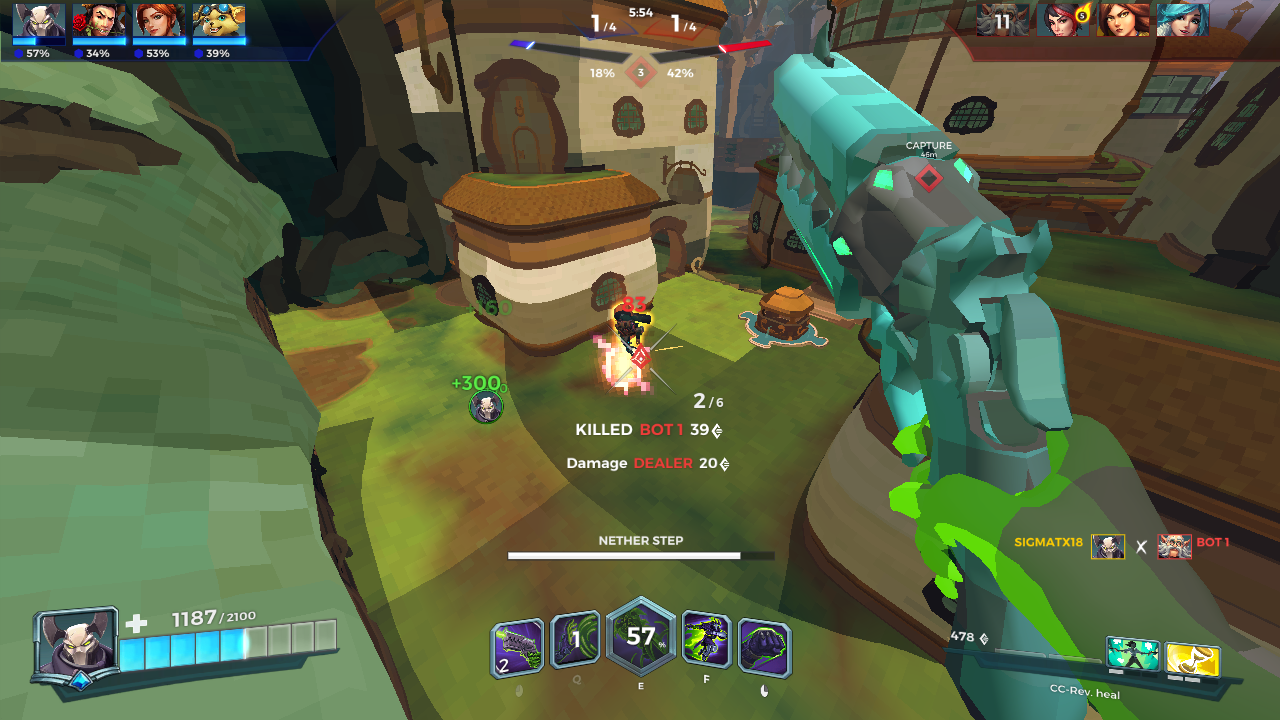model: (609, 301, 652, 359)
